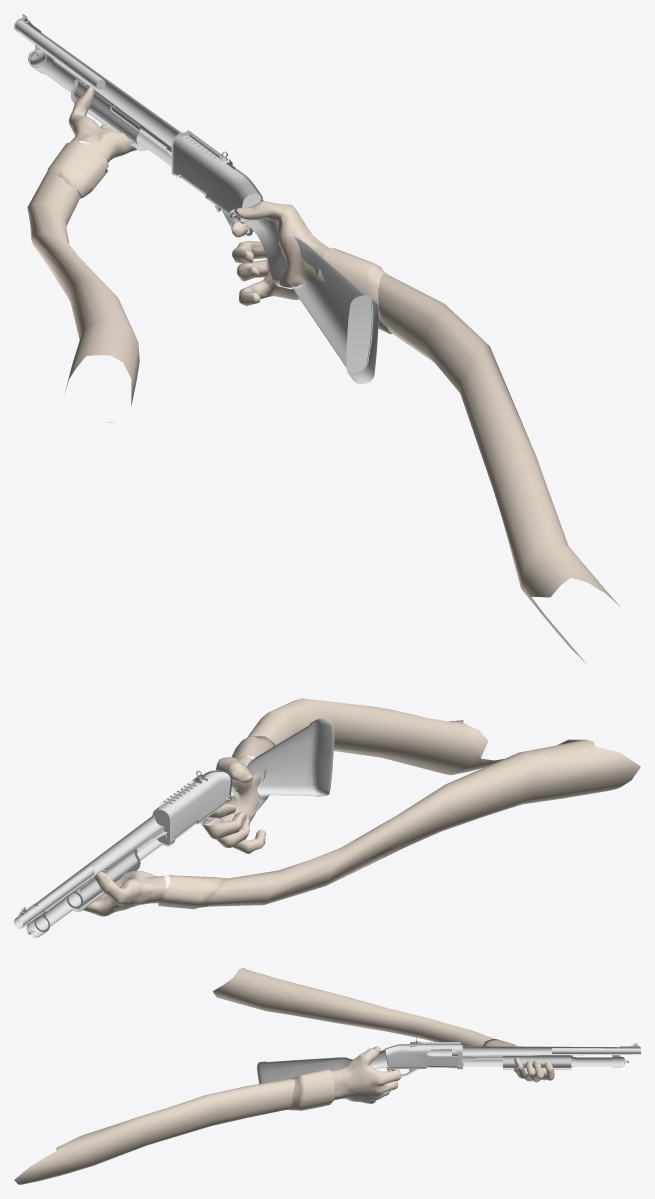
File: nova_posed.glb
3 views of the same model, one above another, from view 1: azimuth 30°, elevation 25°; view 2: azimuth 150°, elevation 25°; view 3: azimuth 270°, elevation 25° (orthographic). The views are drawn at different scales.
Parts seen in each view (by area): view 1: char, body; view 2: char, body; view 3: char, body.
Boxes of the visible parts, box(x1,y1,x2,y2) form: char: box(27, 86, 619, 664); body: box(14, 14, 378, 384); char: box(83, 698, 640, 916); body: box(14, 718, 334, 937); char: box(14, 968, 554, 1184); body: box(257, 1038, 640, 1083).
Bounding box in the file's own units: 0.7238 × 0.4251 × 1.71.
